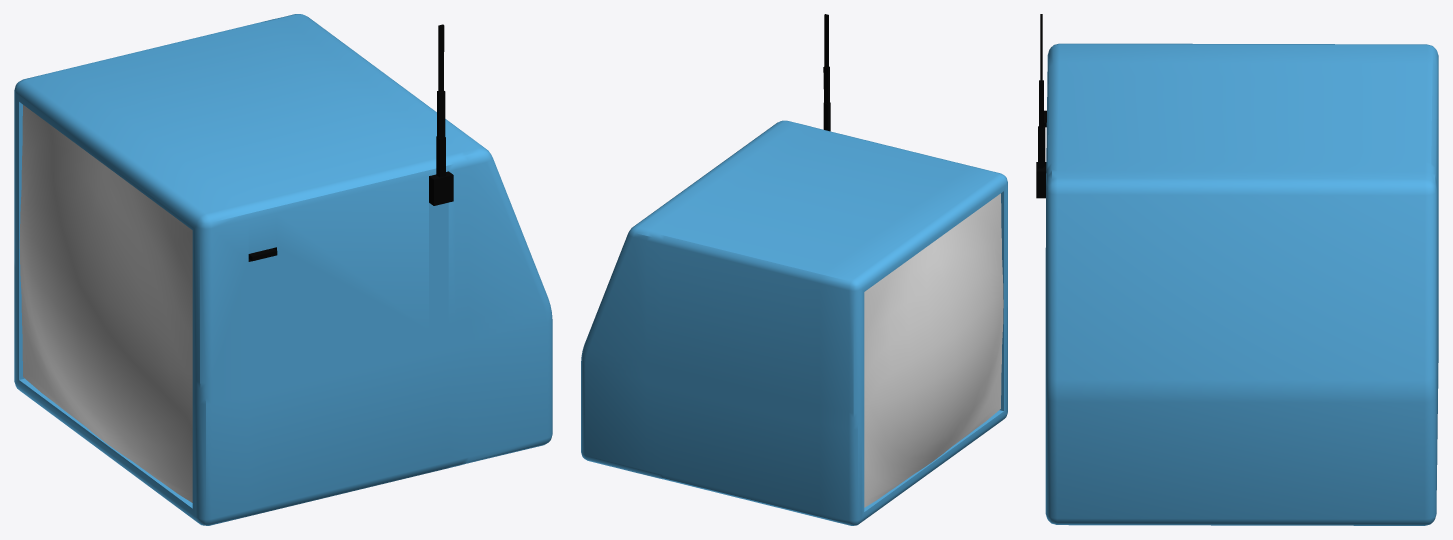
The model's file is BillyBot.fbx.
The picture shows the model from 3 angles, left to right: view 1: azimuth 30°, elevation 25°; view 2: azimuth 150°, elevation 25°; view 3: azimuth 270°, elevation 25°; orthographic projection. The views are drawn at different scales.
Parts seen in each view (by area): view 1: Cube, Screen, antina; view 2: Cube, Screen, antina; view 3: Cube, antina.
Part boxes in pixels (<box>): Cube: <box>14,14,552,525</box>; Screen: <box>19,105,192,502</box>; antina: <box>429,24,453,205</box>; Cube: <box>581,120,1007,525</box>; Screen: <box>864,193,1003,507</box>; antina: <box>823,14,830,131</box>; Cube: <box>1045,43,1438,525</box>; antina: <box>1036,14,1046,198</box>.
Size of the model in its own units: 228 by 257 by 206.
